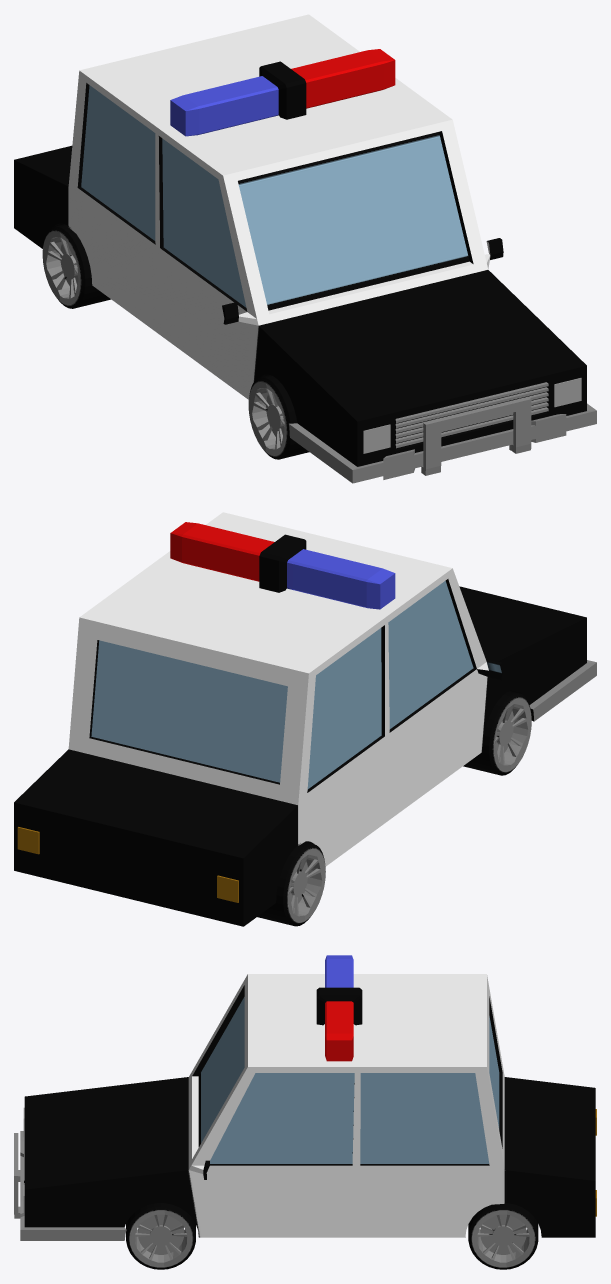
Rendered from low_poly_police_car.glb.
3 renders of one model, top to bottom at view 1: azimuth 30°, elevation 25°; view 2: azimuth 150°, elevation 25°; view 3: azimuth 270°, elevation 25°, orthographic. The views are drawn at different scales.
Parts seen in each view (by area): view 1: Car_3; view 2: Car_3; view 3: Car_3.
Boxes of the visible parts, x1,y1,x2,y2 form: Car_3: (14, 14, 596, 483); Car_3: (14, 512, 596, 926); Car_3: (14, 955, 596, 1269).
Size of the model in its own units: 451 by 428 by 985.
8 materials, 8 textured.
